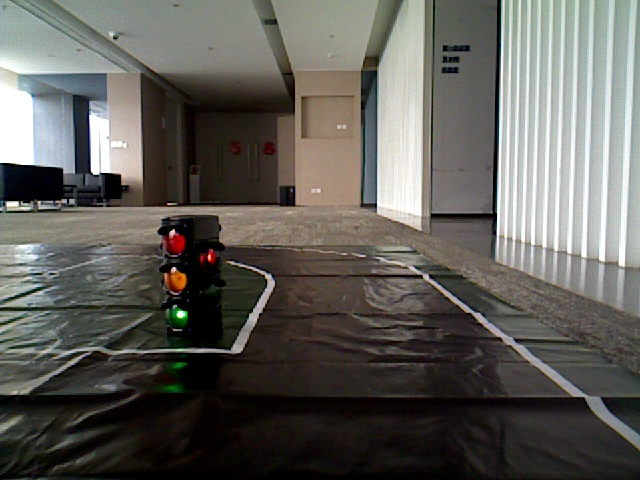green: (161, 224, 190, 324)
